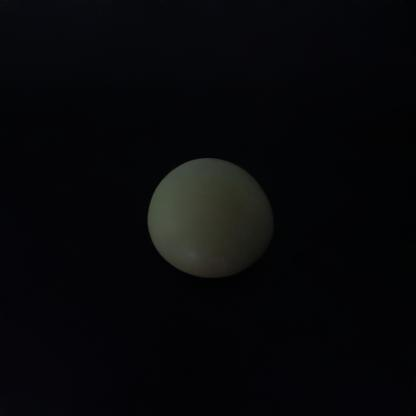egg: (146, 148, 275, 290)
